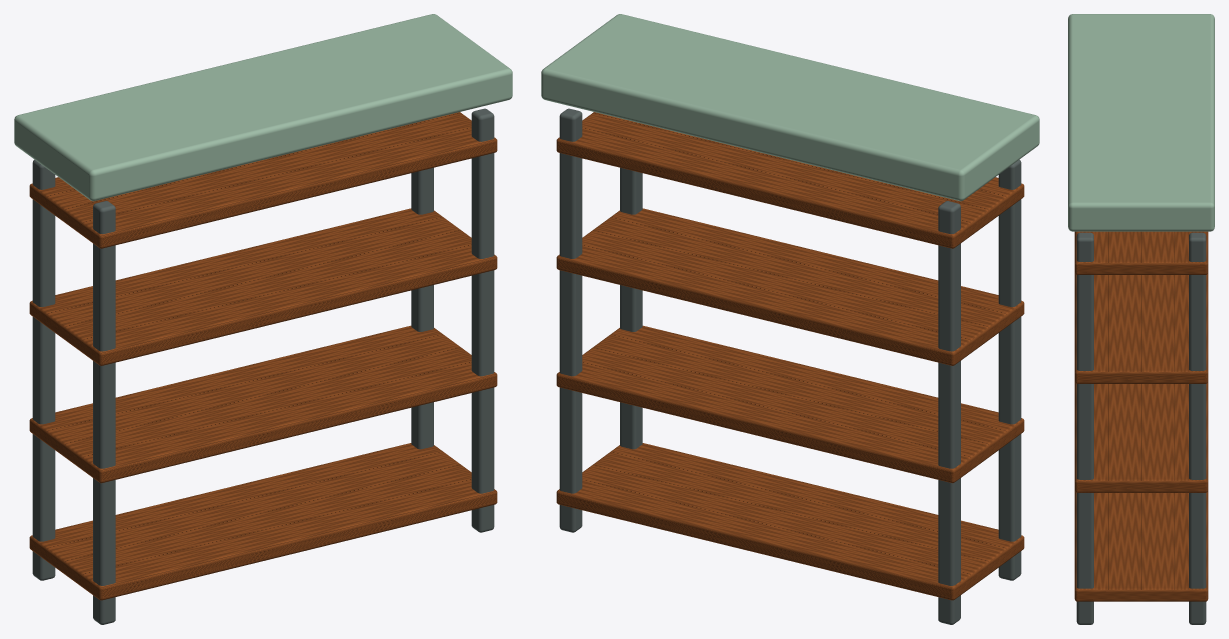
File: ceramics-pottery-studio-retail-display-f4931201__29525.glb
3 views of the same model, side by side, from view 1: azimuth 30°, elevation 25°; view 2: azimuth 150°, elevation 25°; view 3: azimuth 270°, elevation 25° (orthographic). The views are drawn at different scales.
Visible parts, largest first — view 1: retail-display; view 2: retail-display; view 3: retail-display.
Part boxes in pixels (box(x1,y1,x2,y2)): retail-display: box(14, 14, 512, 624); retail-display: box(541, 14, 1039, 624); retail-display: box(1068, 14, 1214, 624).
Size of the model in its own units: 1.7 by 1.77 by 0.55.
3 materials, 1 textured.
